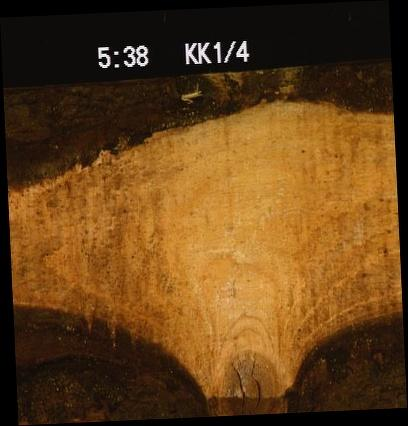sound_knot: (223, 352, 272, 414)
wave: (5, 65, 393, 185), (15, 298, 206, 420), (281, 311, 404, 410)
